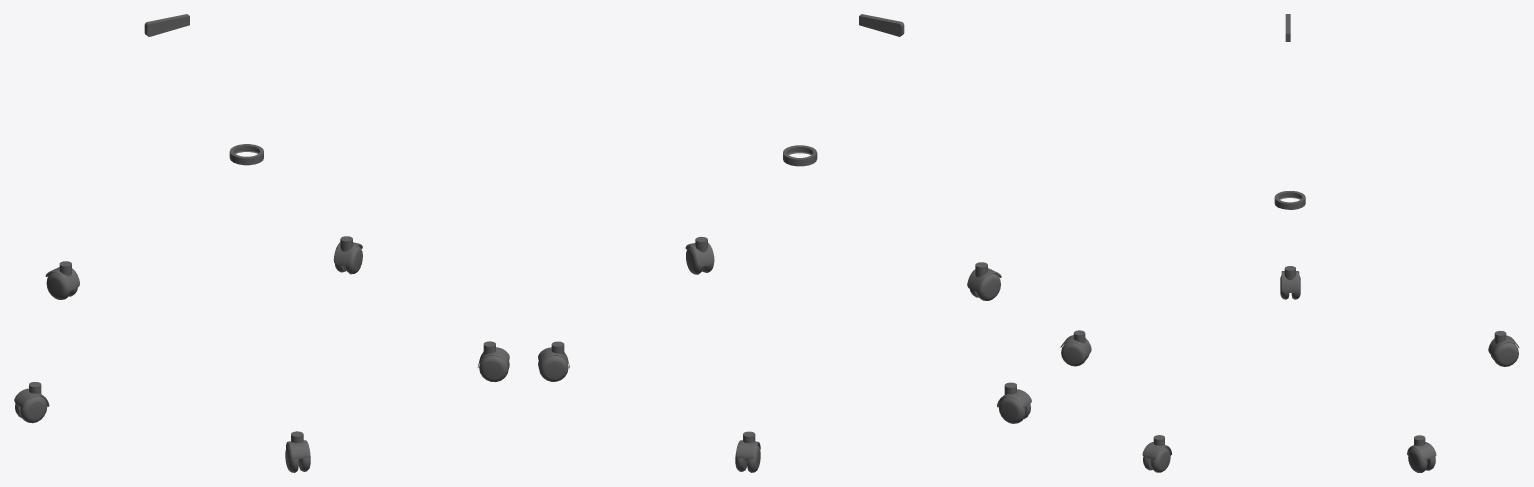
Rendered from RoboTHOR_office_chair_jules_robothor_office_chair_jules_0.obj.
The picture shows the model from 3 angles, left to right: view 1: azimuth 30°, elevation 25°; view 2: azimuth 150°, elevation 25°; view 3: azimuth 270°, elevation 25°; orthographic projection. The views are drawn at different scales.
Size of the model in its own units: 0.5222 by 0.4421 by 0.5482.
1 material, 1 textured.
